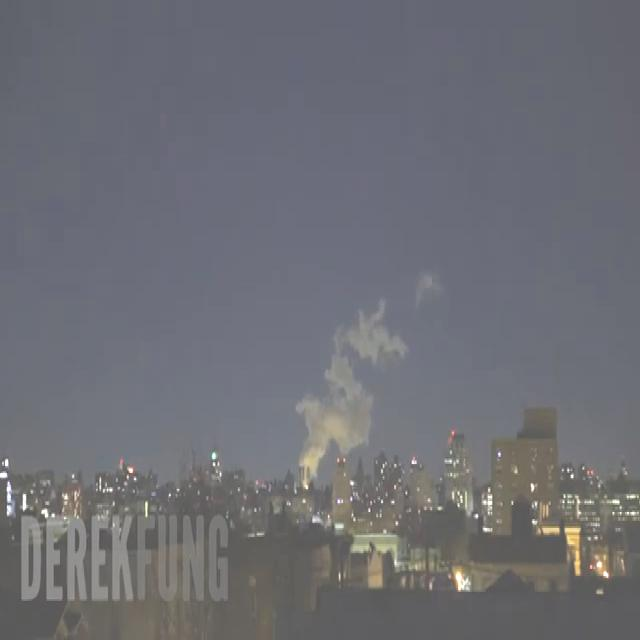smoke: (296, 300, 407, 480)
